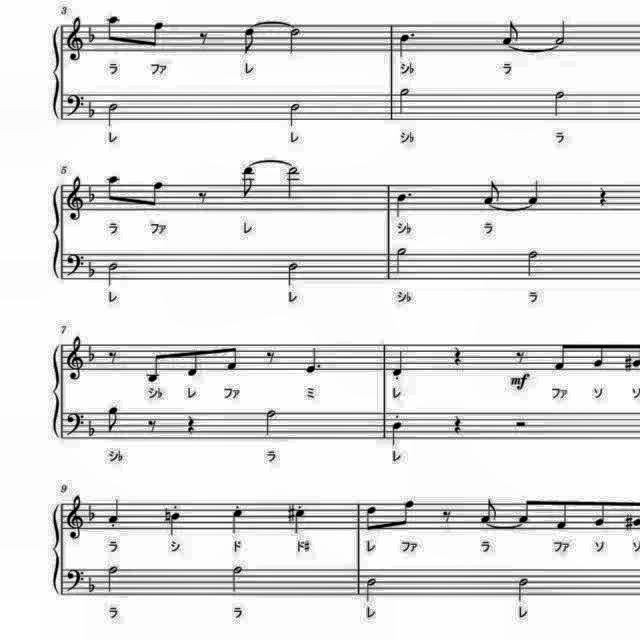Bass-clef: (64, 409, 88, 439), (64, 92, 88, 120), (64, 566, 86, 594), (64, 252, 86, 280)
Bemol: (85, 20, 99, 46), (86, 341, 102, 363), (87, 96, 101, 120), (85, 501, 99, 524), (85, 181, 99, 203), (86, 416, 100, 438), (86, 258, 100, 280), (85, 574, 98, 594)
Diez: (284, 502, 296, 530)
Eighth-note: (392, 496, 418, 532), (142, 347, 166, 385), (144, 16, 168, 52), (144, 179, 168, 213), (478, 494, 502, 526), (238, 164, 258, 202), (104, 12, 125, 48), (104, 170, 125, 206), (551, 340, 573, 374), (498, 17, 522, 47), (183, 344, 203, 380), (552, 498, 572, 532), (480, 178, 504, 206), (240, 24, 260, 56), (222, 342, 242, 374), (514, 494, 534, 526), (589, 339, 609, 369), (361, 501, 379, 533), (592, 496, 610, 528), (106, 404, 124, 436)
Eighth-rest: (507, 344, 535, 368), (194, 27, 213, 49), (192, 185, 210, 207), (439, 508, 456, 528), (105, 347, 121, 368), (264, 346, 280, 366), (144, 416, 160, 436)
Half-note: (282, 163, 302, 201), (550, 86, 570, 120), (396, 83, 416, 117), (284, 24, 304, 56), (262, 406, 282, 438), (523, 248, 543, 280), (284, 100, 304, 132), (228, 562, 248, 594), (514, 574, 534, 606), (104, 563, 122, 597), (282, 260, 302, 290), (392, 246, 410, 278), (102, 99, 121, 129), (552, 18, 572, 46), (104, 260, 122, 290), (361, 574, 379, 604)
Half-rest: (513, 418, 531, 430)
Quarter-dot: (396, 30, 422, 61), (302, 344, 326, 376), (393, 191, 417, 221)
Quarter-note: (388, 346, 408, 379), (228, 505, 248, 537), (105, 495, 123, 527), (524, 178, 544, 206), (164, 509, 183, 538), (291, 506, 309, 536), (388, 419, 406, 447)
Quarter-rest: (449, 410, 466, 438), (592, 185, 610, 211), (449, 342, 466, 368), (182, 412, 198, 436)
Treble-clef: (64, 175, 88, 225), (64, 18, 88, 66), (65, 333, 87, 383), (64, 493, 86, 542)
